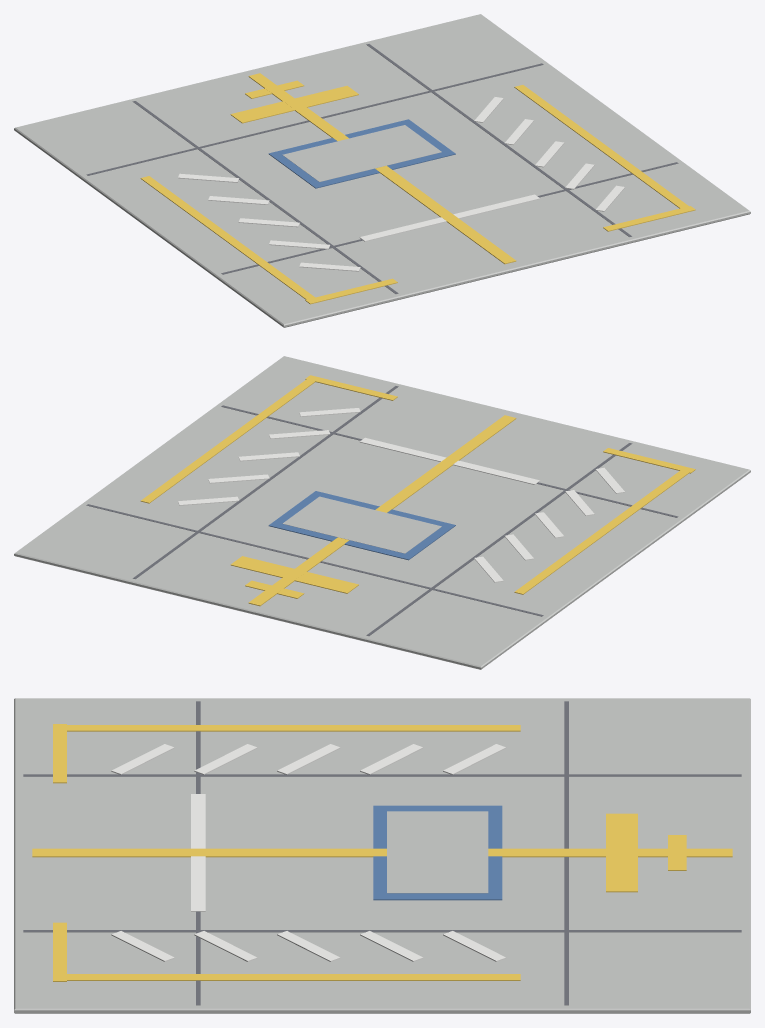
Rendered from airport-terminal-and-ground-operations-stand-marking-t-c95f523c__26076.glb.
The picture shows the model from 3 angles, top to bottom: view 1: azimuth 30°, elevation 25°; view 2: azimuth 150°, elevation 25°; view 3: azimuth 270°, elevation 25°; orthographic projection. The views are drawn at different scales.
Visible parts, largest first — view 1: stand-marking-tile; view 2: stand-marking-tile; view 3: stand-marking-tile.
Part boxes in pixels (left/top/right/bottom): stand-marking-tile: left=14, top=14, right=750, bottom=327; stand-marking-tile: left=14, top=356, right=750, bottom=669; stand-marking-tile: left=14, top=698, right=750, bottom=1013.
Bounding box in the file's own units: 8 × 0.0752 × 8.
